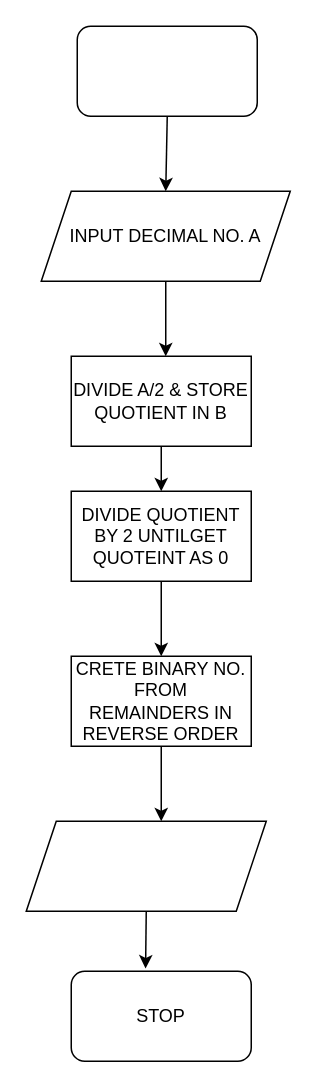
Some shapes in this 317 by 1088 pixel diagram are drawn without their labels. Each missing label, with the centre of its shape:
"DISPLAY BINARY NO." goes at (x=145, y=865).
"Start" goes at (x=166, y=70).
